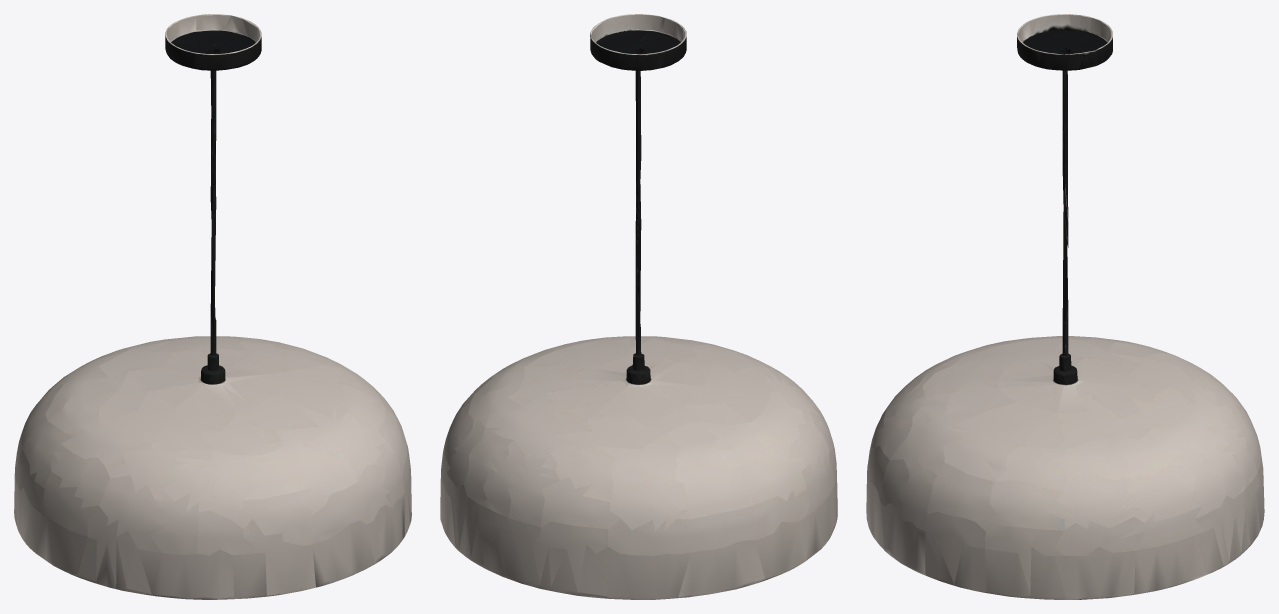
File: pendant_light.glb
3 renders of one model, left to right at view 1: azimuth 30°, elevation 25°; view 2: azimuth 150°, elevation 25°; view 3: azimuth 270°, elevation 25°, orthographic.
Parts seen in each view (by area): view 1: 0; view 2: 0; view 3: 0.
Boxes of the visible parts, x1,y1,x2,y2 form: 0: (14, 14, 411, 599); 0: (440, 14, 837, 599); 0: (866, 14, 1264, 599).
Bounding box in the file's own units: 0.4484 × 0.6 × 0.4484.
Materials: 1 (1 with a texture image).
